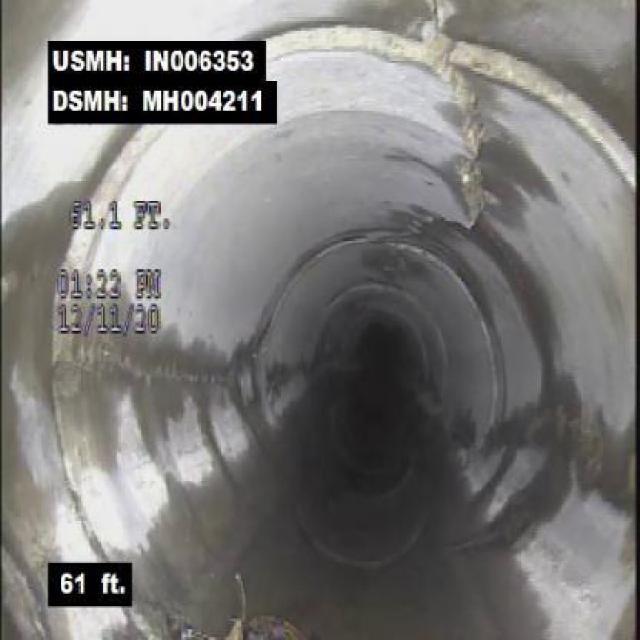Buckling: (432, 68, 492, 237)
Crack: (63, 342, 229, 384)
Joint offset: (505, 56, 637, 172), (271, 18, 500, 72), (88, 128, 168, 200)
